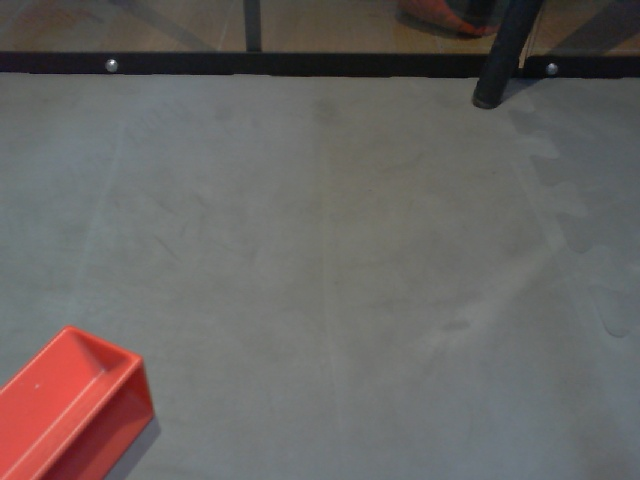RedSample: (1, 322, 158, 479)
